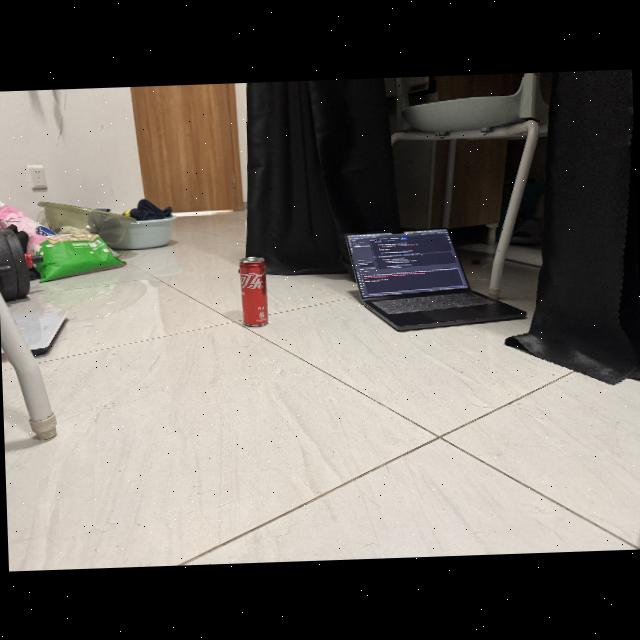Cola: (234, 253, 276, 332)
